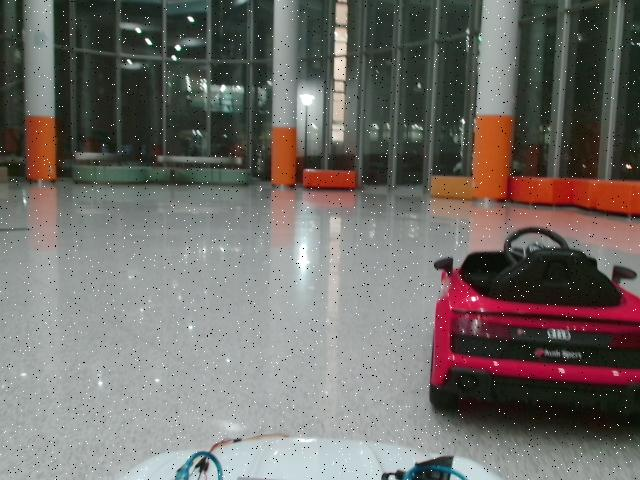car: (428, 224, 640, 413)
